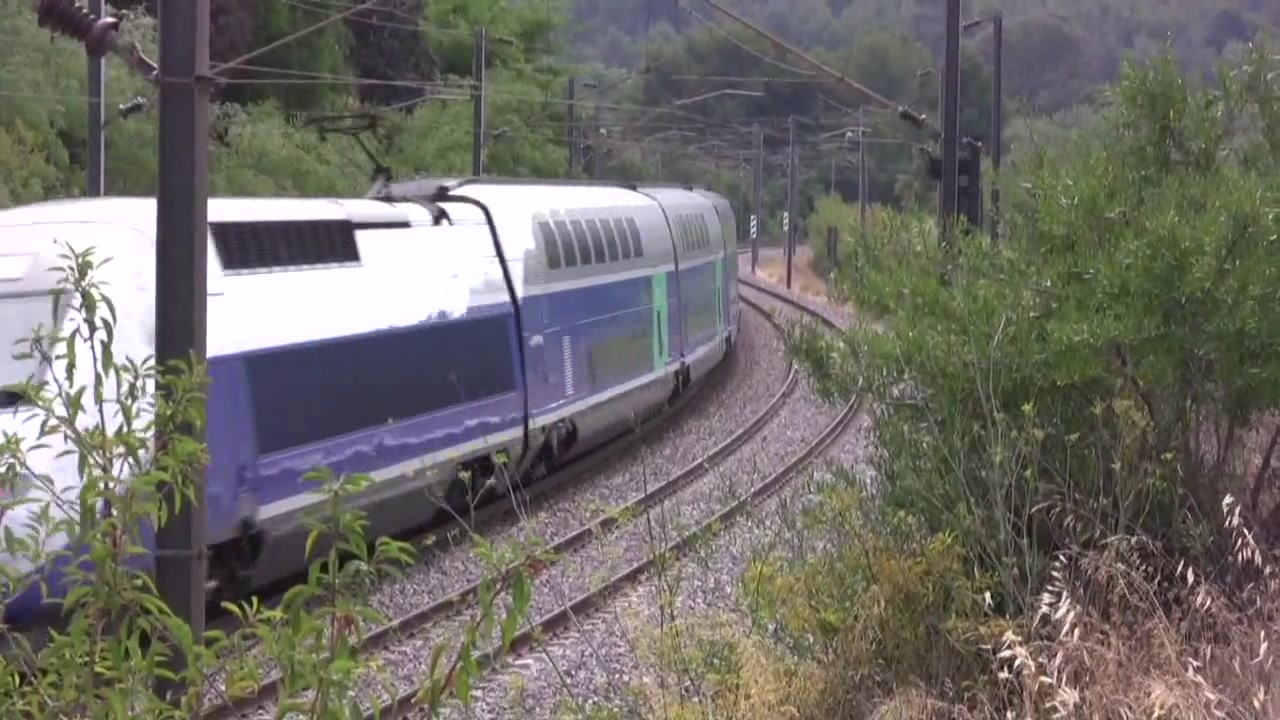train: (1, 176, 746, 664)
